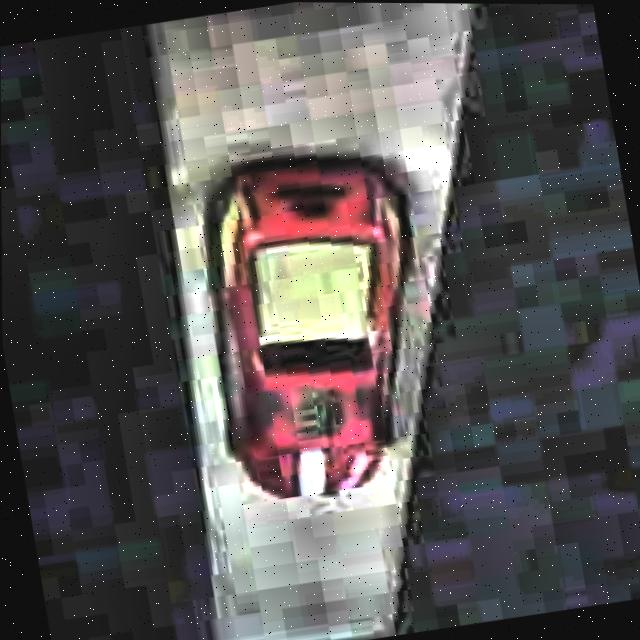car: (180, 134, 453, 514)
